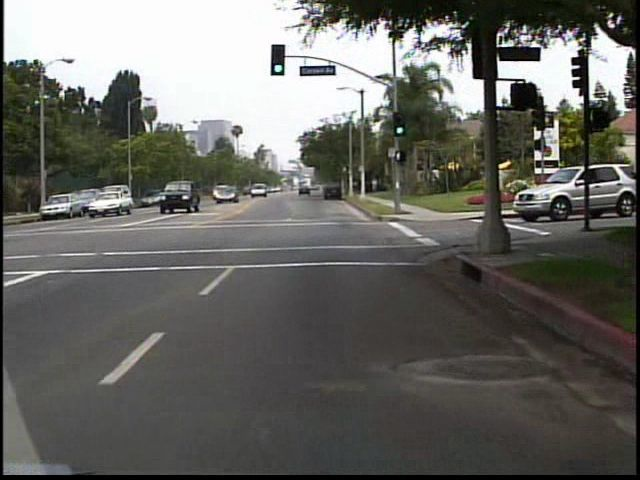person: (363, 175, 372, 198), (372, 175, 380, 195)
